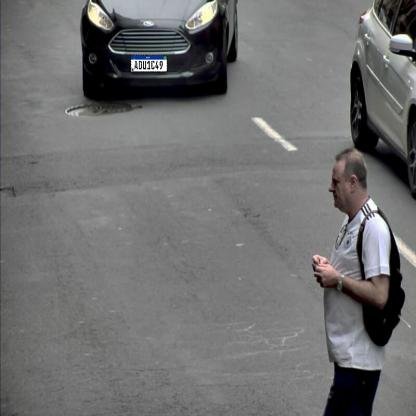PlacaM: (130, 55, 168, 72)
